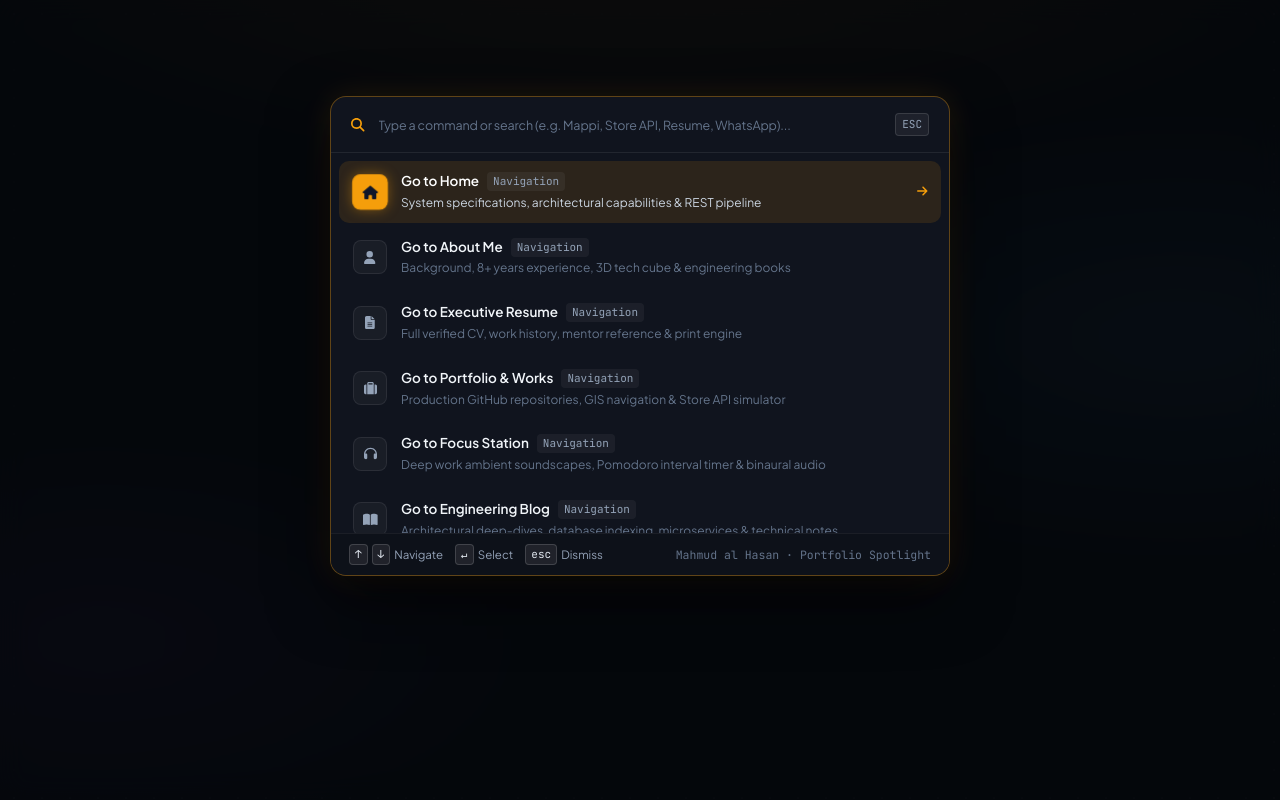
Test: CommandPalette Component › filters commands dynamically on user input
Replace the text in the dropdown named "Command search" with "Store API": (630, 124) [376,115,883,134]
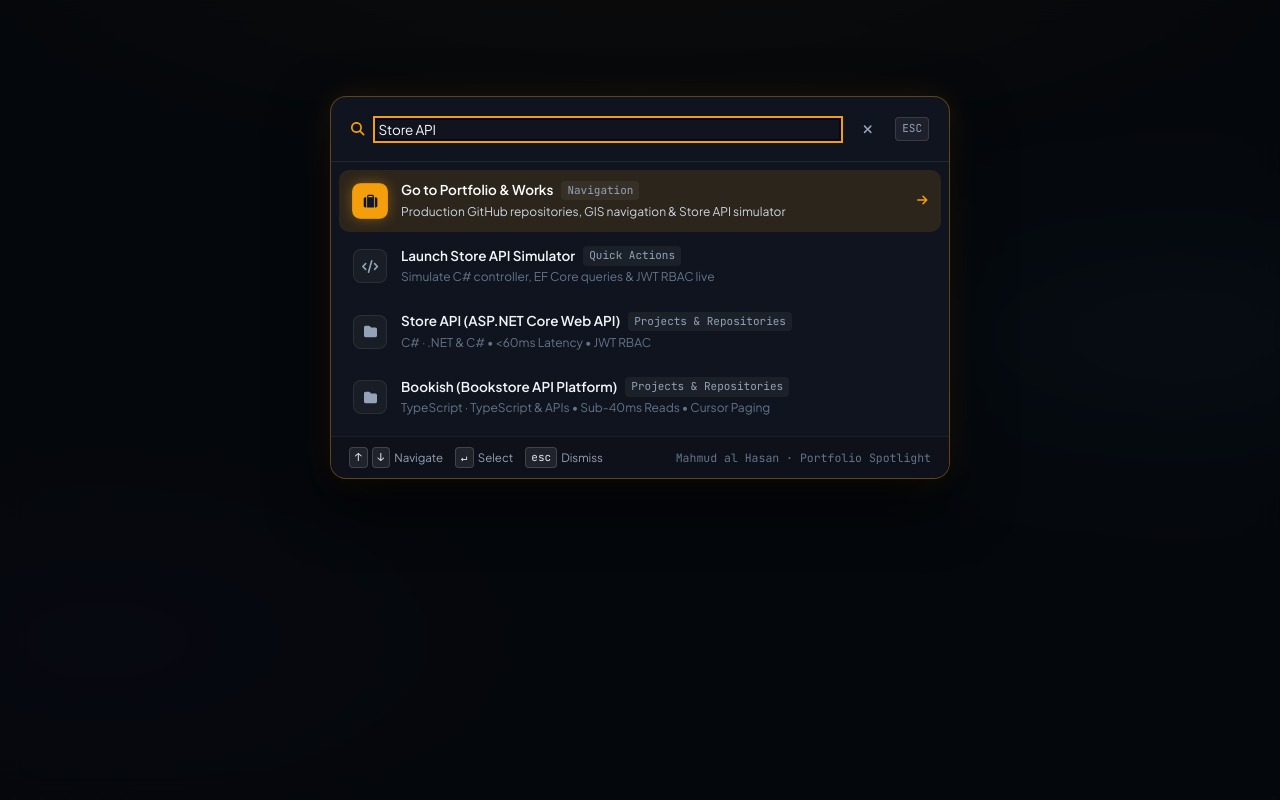
expect the text "Launch Store API Simulator" is shown: met, box [401,246,575,266]
